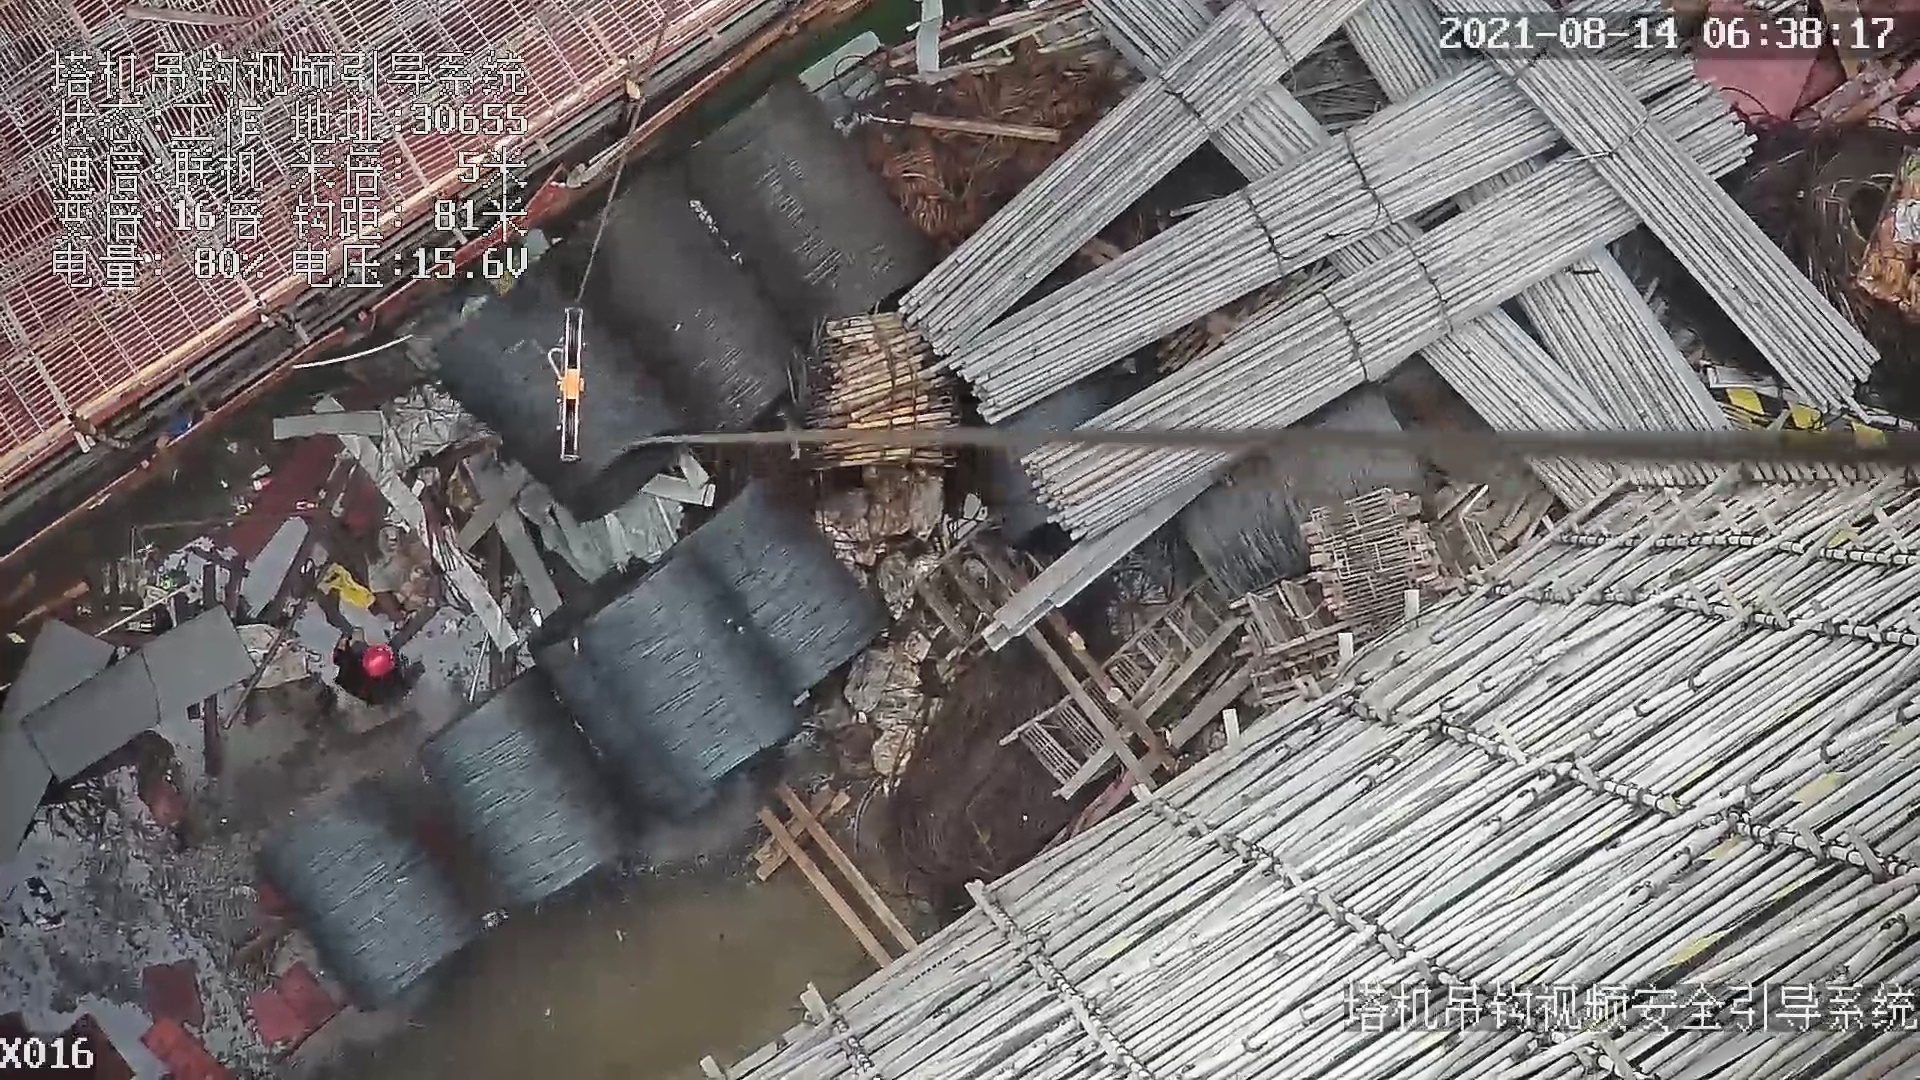helmet: (356, 640, 400, 684)
hook: (546, 301, 592, 462)
person: (327, 627, 427, 709)
